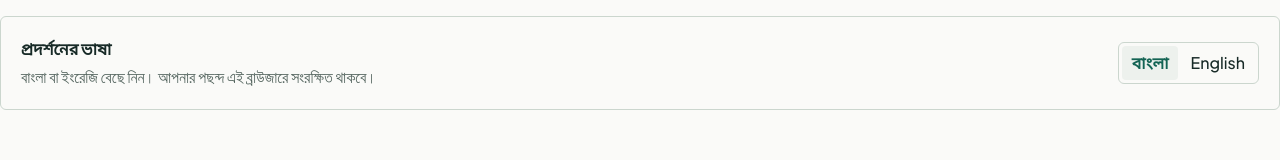
Scenario: changes and saves the display language from the Settings panel
Later steps or results of the test are not shown.
Check: the element "প্রদর্শনের ভাষা" is shown, box 0,16 -> 1279,110
Step 1. Click the button "English" → (1218, 63), box 1180,46 -> 1255,80
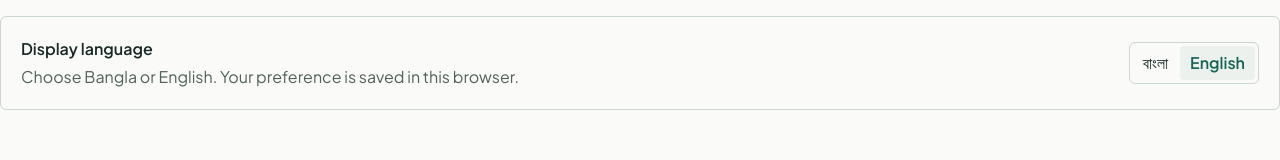
Check: the element "Display language" is shown, box 0,16 -> 1279,110
